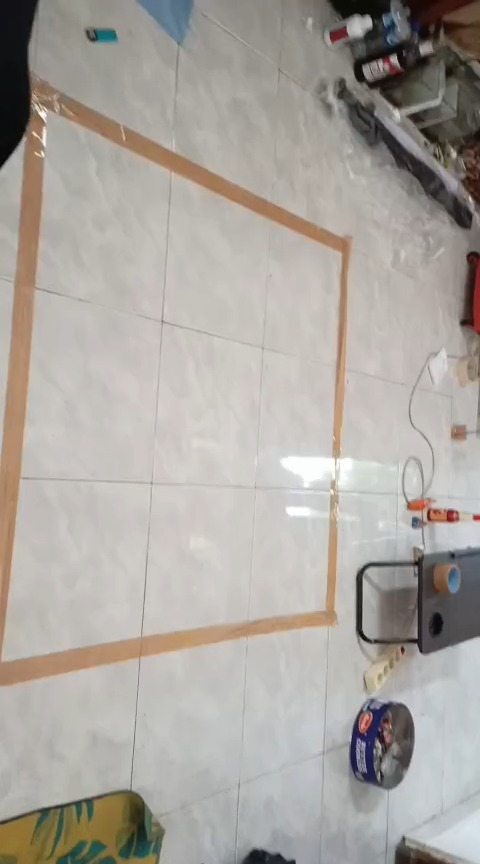floor marking: (0, 77, 350, 684)
